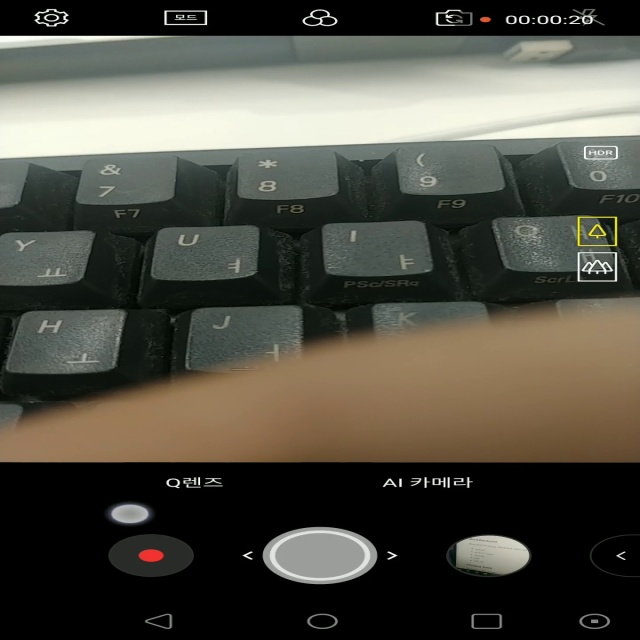Cursor: (109, 502, 153, 524)
